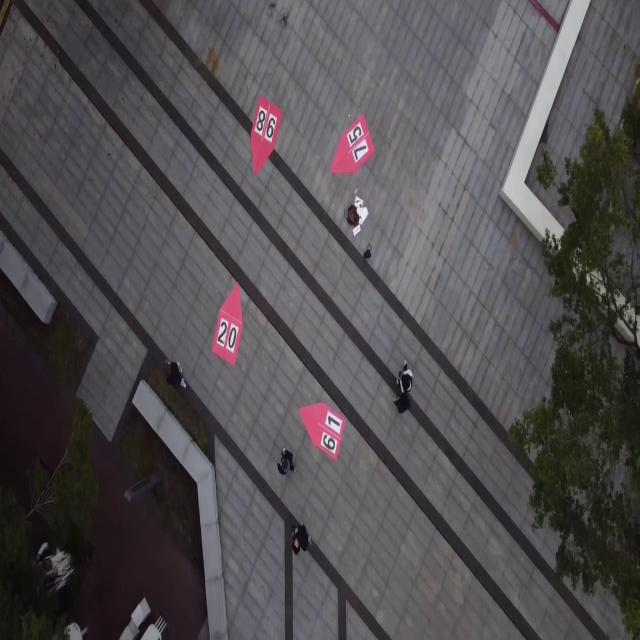-sign-: (298, 402, 344, 462), (332, 113, 376, 175), (211, 281, 243, 366), (250, 96, 282, 176)
